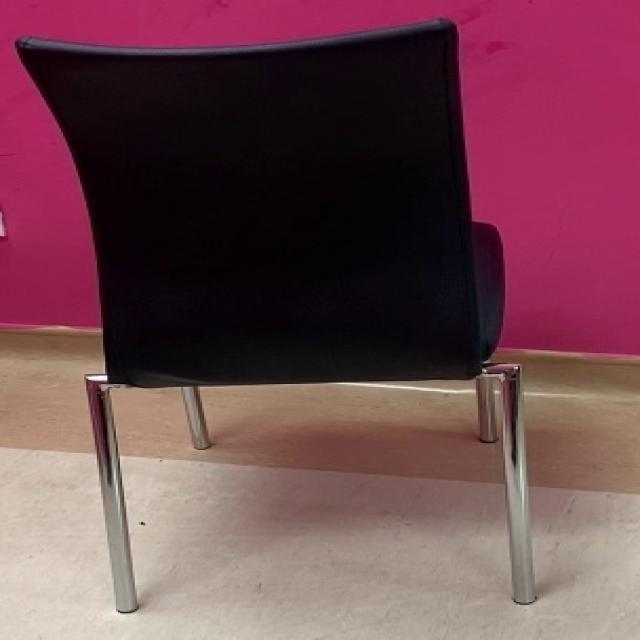chair: (11, 18, 542, 615)
